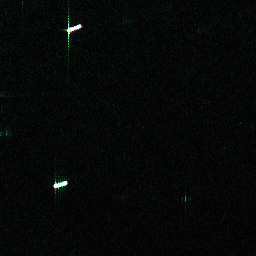ship: (65, 22, 83, 35), (52, 177, 69, 190)
